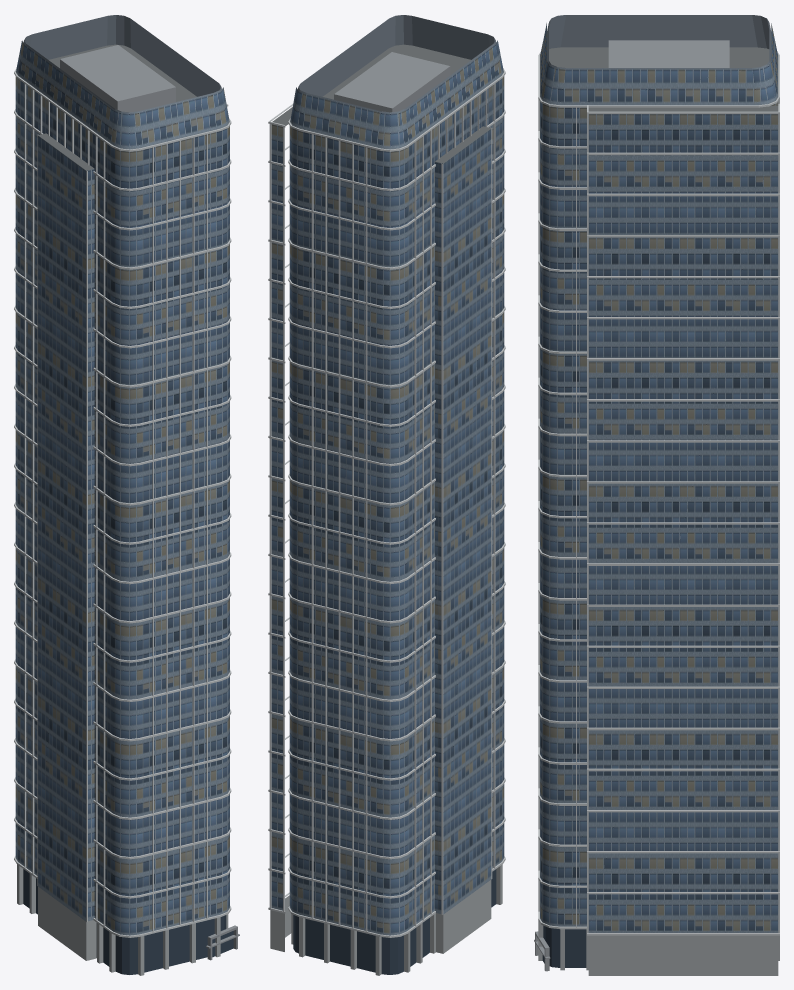
The model's file is millennium_tower.glb.
The picture shows the model from 3 angles, left to right: view 1: azimuth 30°, elevation 25°; view 2: azimuth 150°, elevation 25°; view 3: azimuth 270°, elevation 25°; orthographic projection. The views are drawn at different scales.
Parts seen in each view (by area): view 1: millennium_tower; view 2: millennium_tower; view 3: millennium_tower.
Boxes of the visible parts, <box> form: millennium_tower: <box>14,15,239,975</box>; millennium_tower: <box>268,15,505,975</box>; millennium_tower: <box>534,15,779,975</box>.
Size of the model in its own units: 32.71 by 197 by 48.84.
2 materials, 2 textured.
